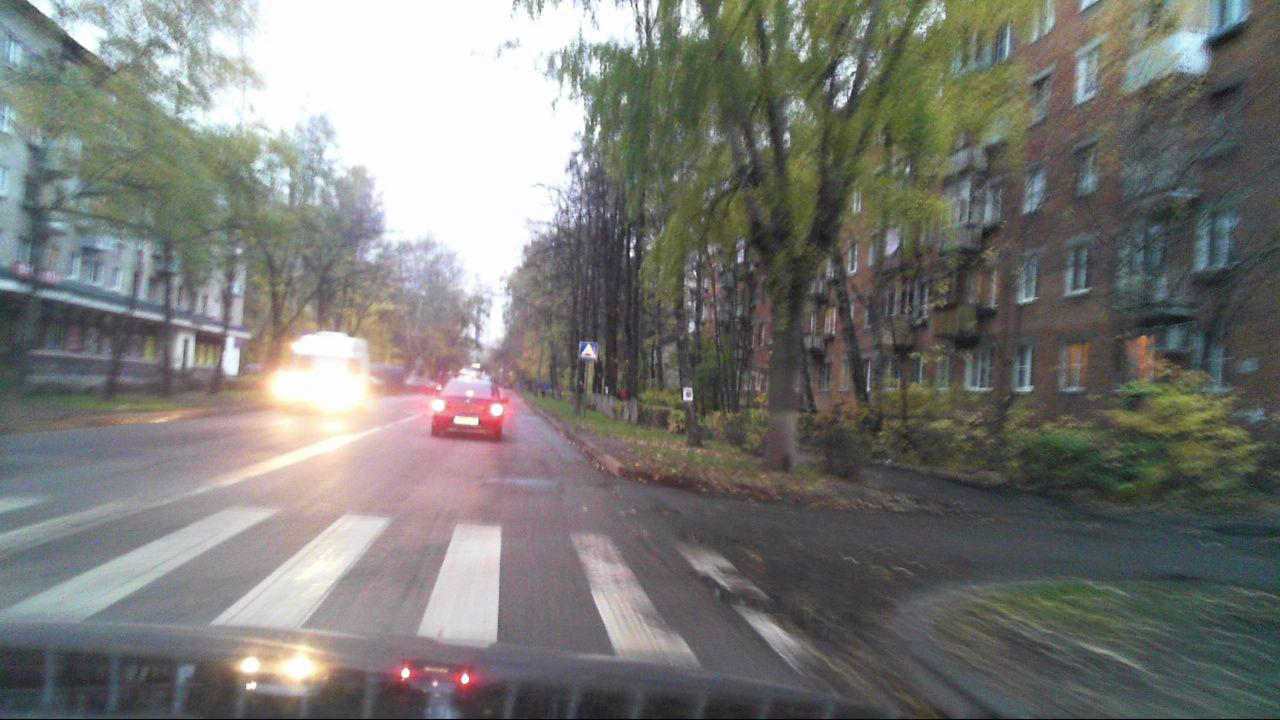5_20: (579, 341, 598, 359)
